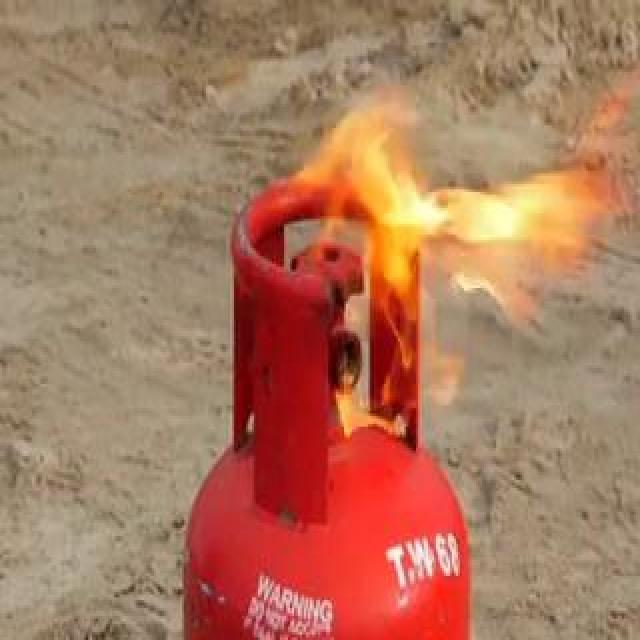Fire: (273, 16, 593, 453)
